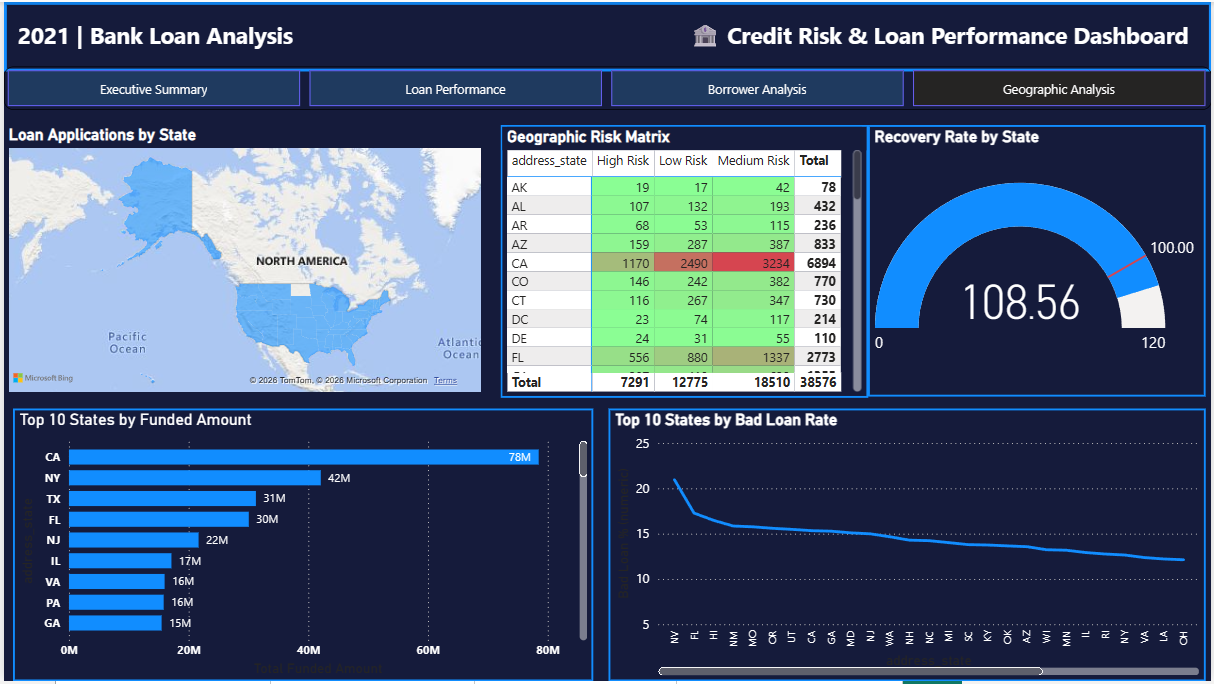

What the dashboard file says about the page in this screenshot:
{"tool":"powerbi","page":{"name":"Geographic Analysis","canvas":[1280,720],"ordinal":3},"visuals":[{"type":"shape","box":[0,0,1280.7,73.7],"z":0},{"type":"textbox","box":[8.8,12.3,1264.9,61.4],"z":1000},{"type":"lineChart","title":"Top 10 States by Bad Loan Rate","fields":{"Category":["financial_loan.address_state"],"Y":["financial_loan.Bad Loan % (numeric)"]},"box":[641,431.1,633.1,289.5],"z":2000},{"type":"pivotTable","title":"Geographic Risk Matrix","fields":{"Rows":["financial_loan.address_state"],"Columns":["financial_loan.dti_risk_category"],"Values":["financial_loan.Total Applications"]},"box":[526.5,130.4,389.7,289.5],"z":3000},{"type":"clusteredBarChart","title":"Top 10 States by Funded Amount","fields":{"Category":["financial_loan.address_state"],"Y":["financial_loan.Total Funded Amount"]},"box":[9.5,431.1,615.6,289.5],"z":4000},{"type":"gauge","title":"Recovery Rate by State","fields":{"Y":["financial_loan.Recovery Rate Numeric"]},"box":[916.2,130.4,357.9,287.9],"z":5000},{"type":"filledMap","title":"Loan Applications by State","fields":{"Category":["financial_loan.address_state"]},"box":[0,130.4,510.6,287.9],"z":6000},{"type":"pageNavigator","box":[0,68.4,1280.4,46.1],"z":7000}]}

Visuals, with their boxes in screenshot pixels (x1, y1, x2, y2), scaled from the page's 1280x720 canvas onto the 1214x684 screenshot:
shape: pyautogui.locateOnScreen(0, 0, 1213, 70)
textbox: pyautogui.locateOnScreen(8, 12, 1208, 70)
"Top 10 States by Bad Loan Rate" lineChart: pyautogui.locateOnScreen(608, 410, 1208, 683)
"Geographic Risk Matrix" pivotTable: pyautogui.locateOnScreen(499, 124, 869, 399)
"Top 10 States by Funded Amount" clusteredBarChart: pyautogui.locateOnScreen(9, 410, 593, 683)
"Recovery Rate by State" gauge: pyautogui.locateOnScreen(869, 124, 1208, 397)
"Loan Applications by State" filledMap: pyautogui.locateOnScreen(0, 124, 484, 397)
pageNavigator: pyautogui.locateOnScreen(0, 65, 1213, 109)
